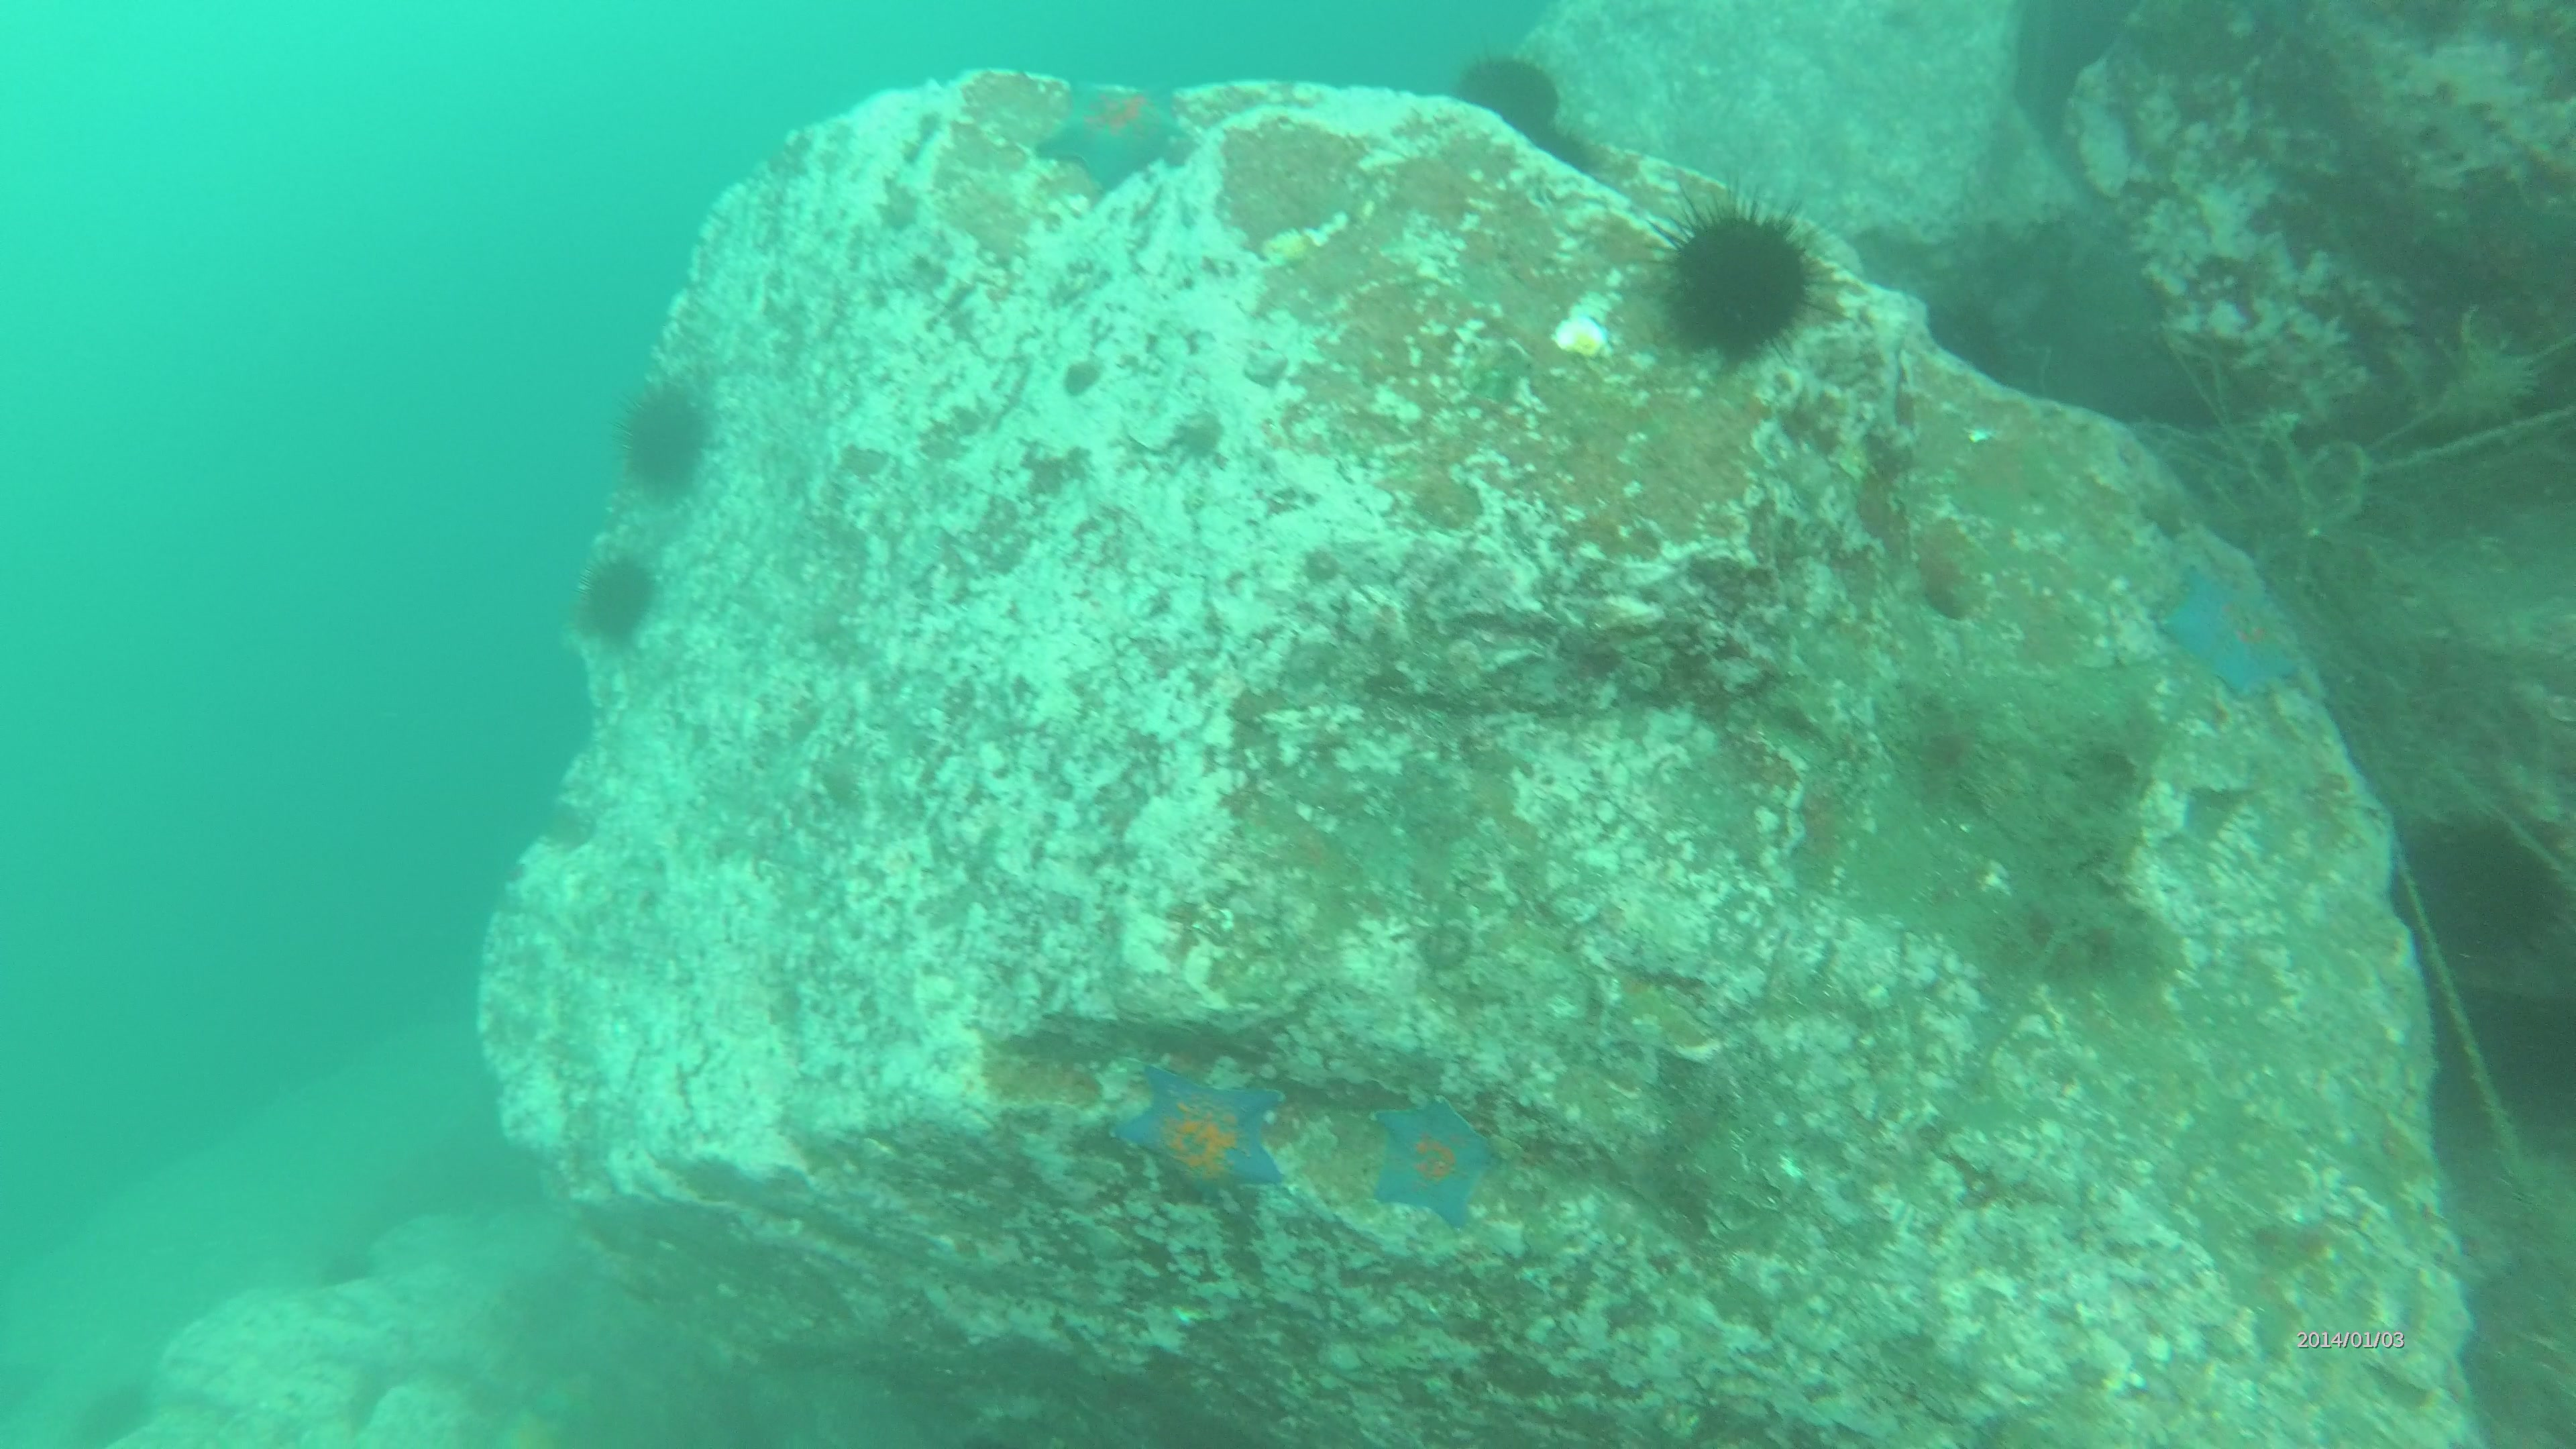echinus: (1631, 159, 1854, 375), (603, 366, 727, 511), (561, 527, 658, 658), (1445, 41, 1559, 149)
starfish: (1118, 1053, 1293, 1200), (2150, 550, 2309, 706), (1364, 1088, 1504, 1230)
